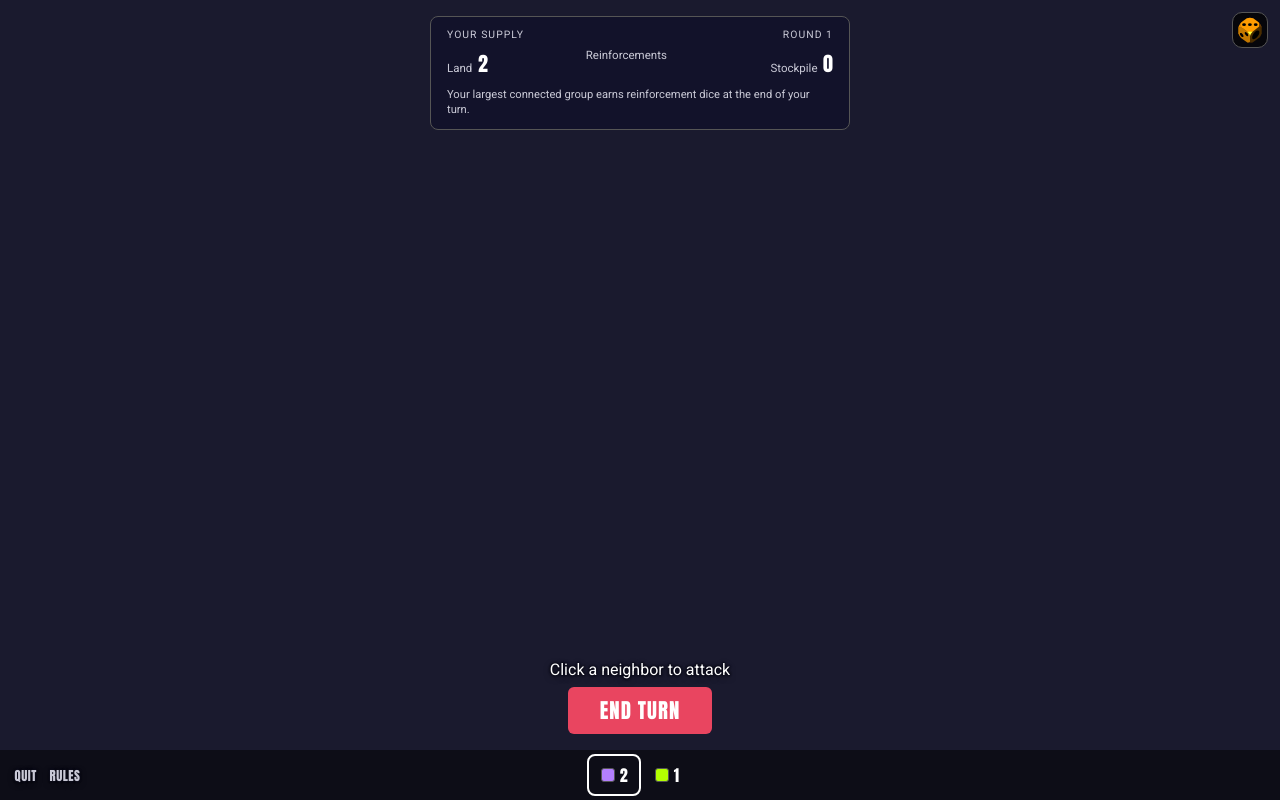
Test case: App playing-screen tab order (#211) › closes the dropdown on Escape and leaves a half-made attack alone
Click the button named "Settings" at (1250, 30), box [1232,12,1268,48]
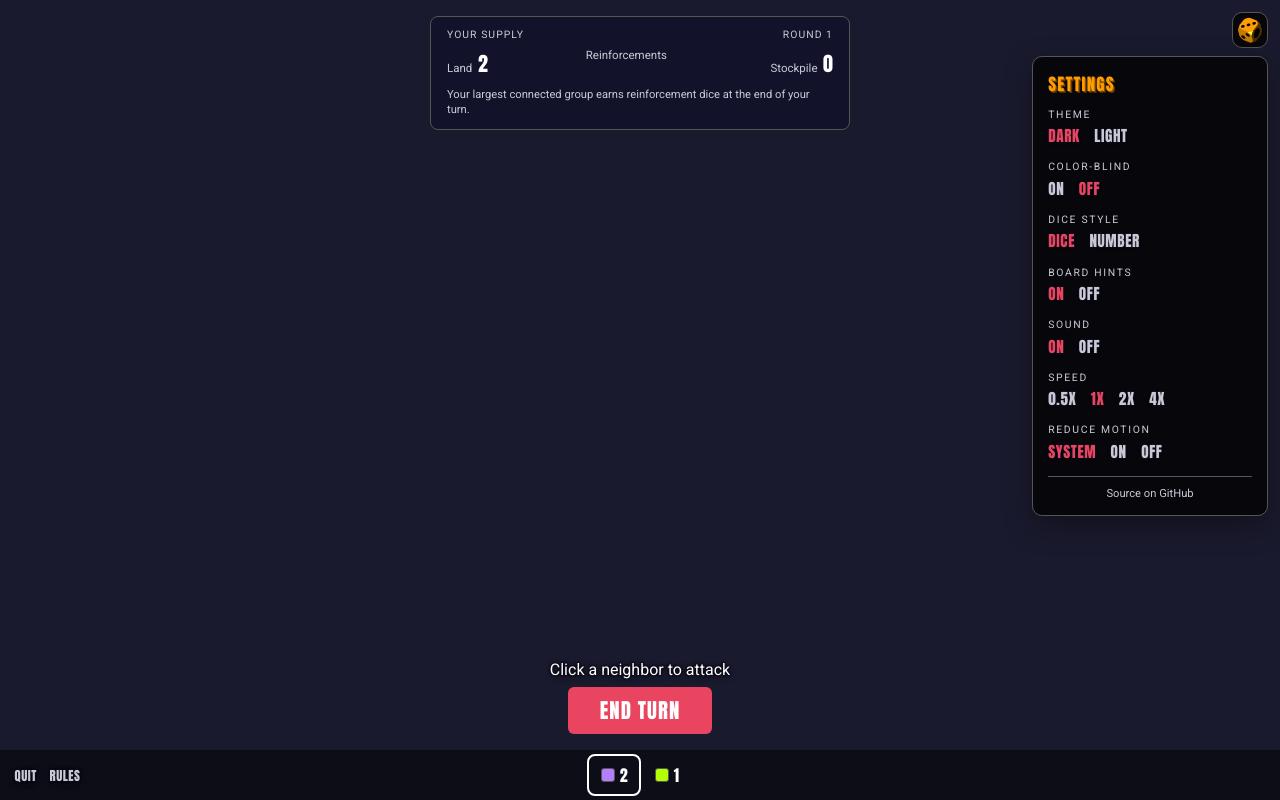
Press Escape
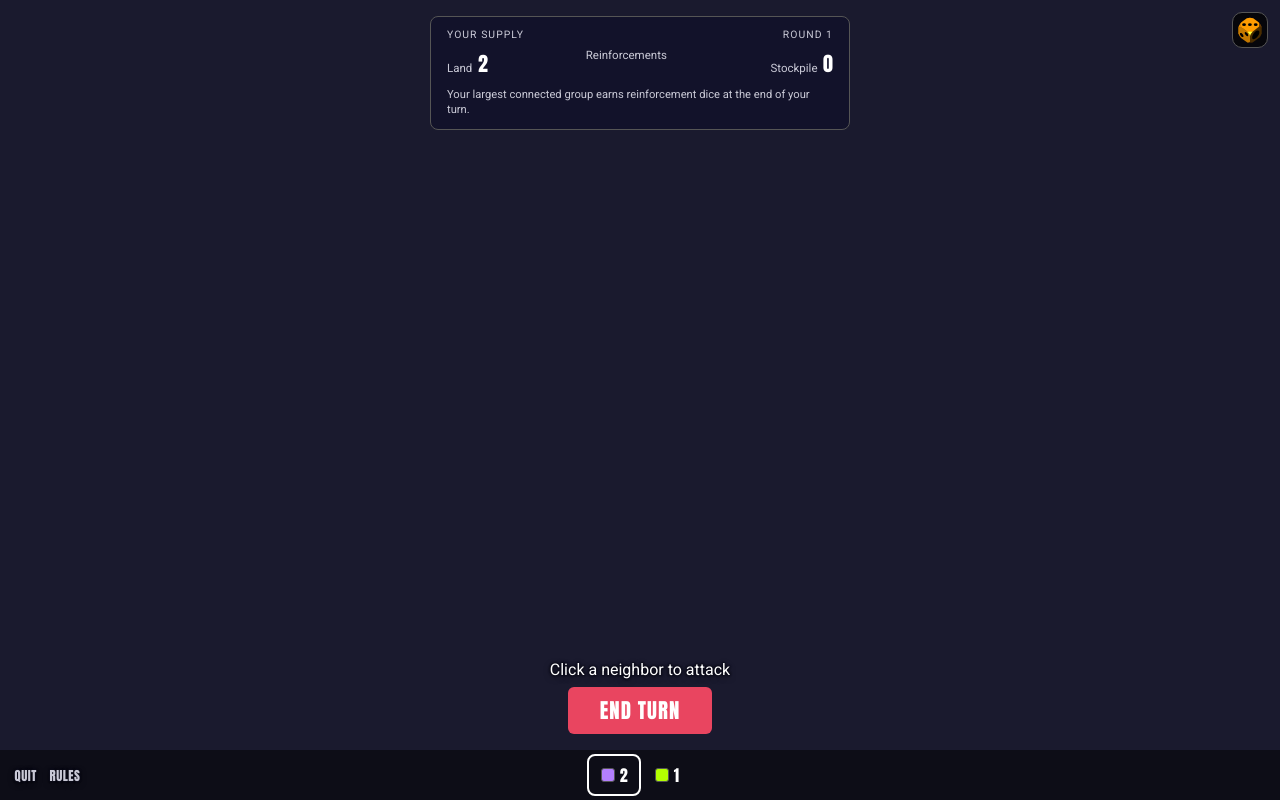
Now the button named "Settings" is collapsed, box [1232,12,1268,48]
